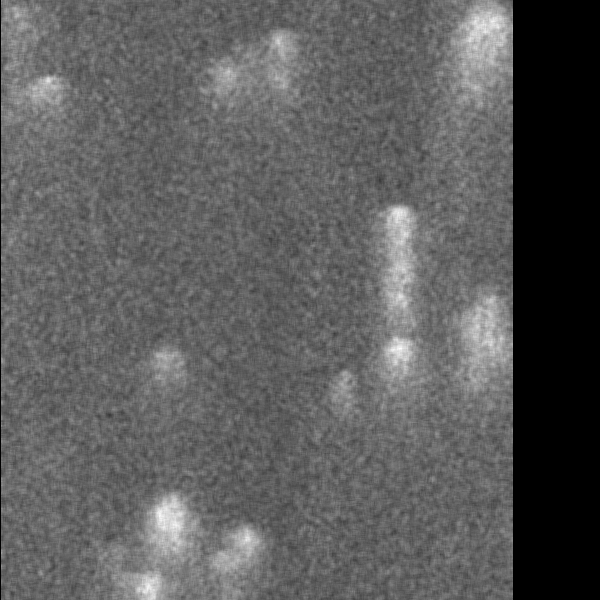spark: (375, 167, 421, 457), (204, 58, 252, 157), (143, 338, 187, 433), (260, 26, 300, 103), (326, 365, 351, 448), (233, 519, 259, 592), (34, 66, 63, 123), (9, 3, 24, 22)
